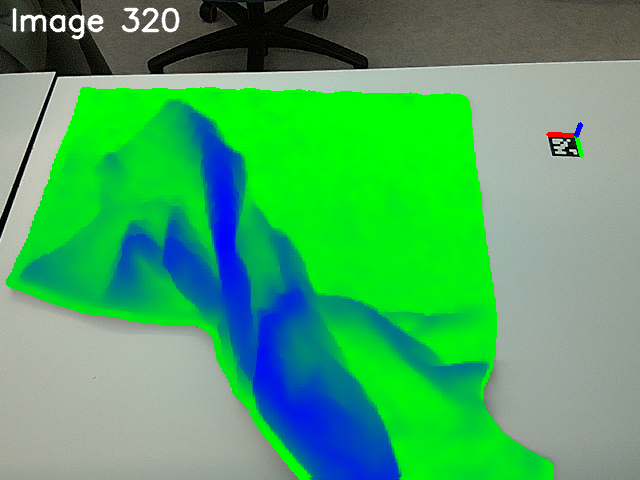V: (147, 91, 198, 130)
